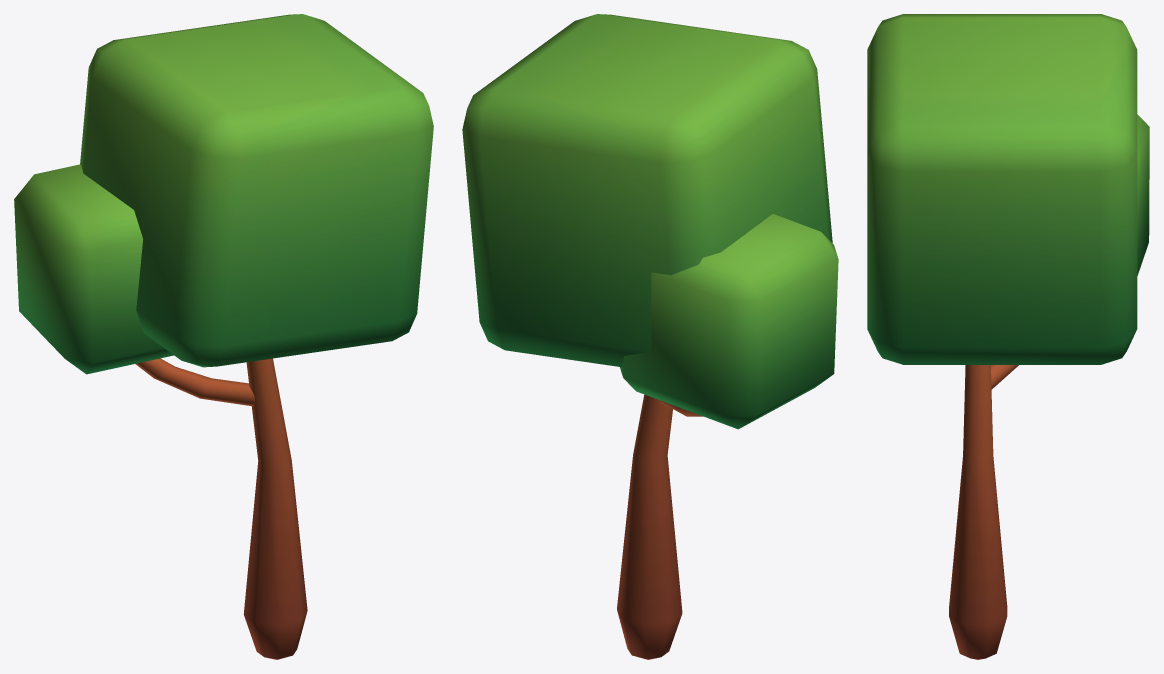
Rendered from Tree_2_A_Color1.gltf.
The picture shows the model from 3 angles, left to right: view 1: azimuth 30°, elevation 25°; view 2: azimuth 150°, elevation 25°; view 3: azimuth 270°, elevation 25°; orthographic projection. The views are drawn at different scales.
Visible parts, largest first — view 1: Tree_2_A_Color1; view 2: Tree_2_A_Color1; view 3: Tree_2_A_Color1.
Boxes of the visible parts, x1,y1,x2,y2 form: Tree_2_A_Color1: (14,14,433,659); Tree_2_A_Color1: (462,14,838,659); Tree_2_A_Color1: (867,14,1149,659).
Bounding box in the file's own units: 2.6 × 4.67 × 2.
Materials: 1 (1 with a texture image).
